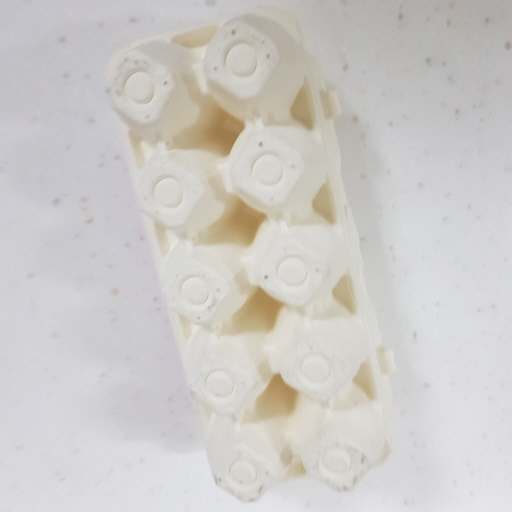Paper_0: (94, 5, 414, 506)
